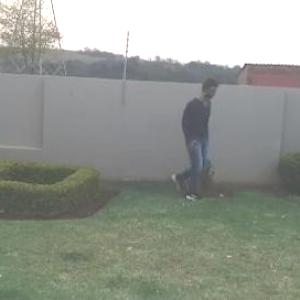follow: (176, 80, 210, 194)
